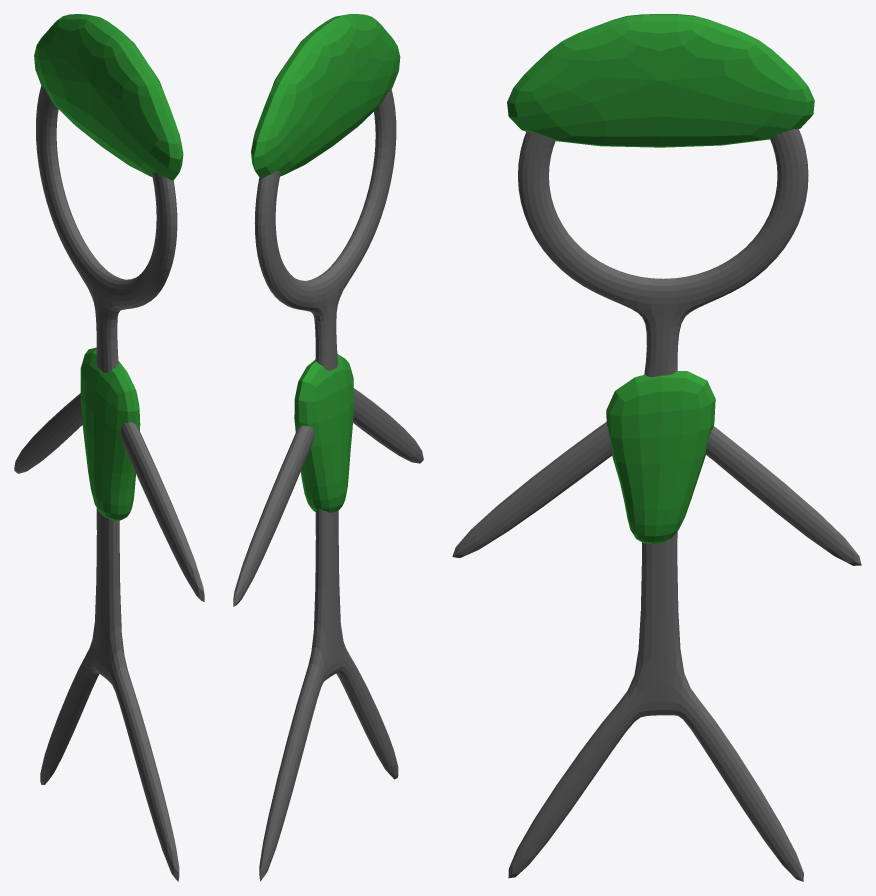
Rendered from clyde.glb.
3 views of the same model, side by side, from view 1: azimuth 30°, elevation 25°; view 2: azimuth 150°, elevation 25°; view 3: azimuth 270°, elevation 25° (orthographic). The views are drawn at different scales.
Parts seen in each view (by area): view 1: Circle; view 2: Circle; view 3: Circle.
Part boxes in pixels (x1,y1,x2,y2): Circle: (14, 14, 204, 881); Circle: (233, 14, 423, 881); Circle: (452, 14, 861, 881).
Bounding box in the file's own units: 0.132 × 2.72 × 1.16.
